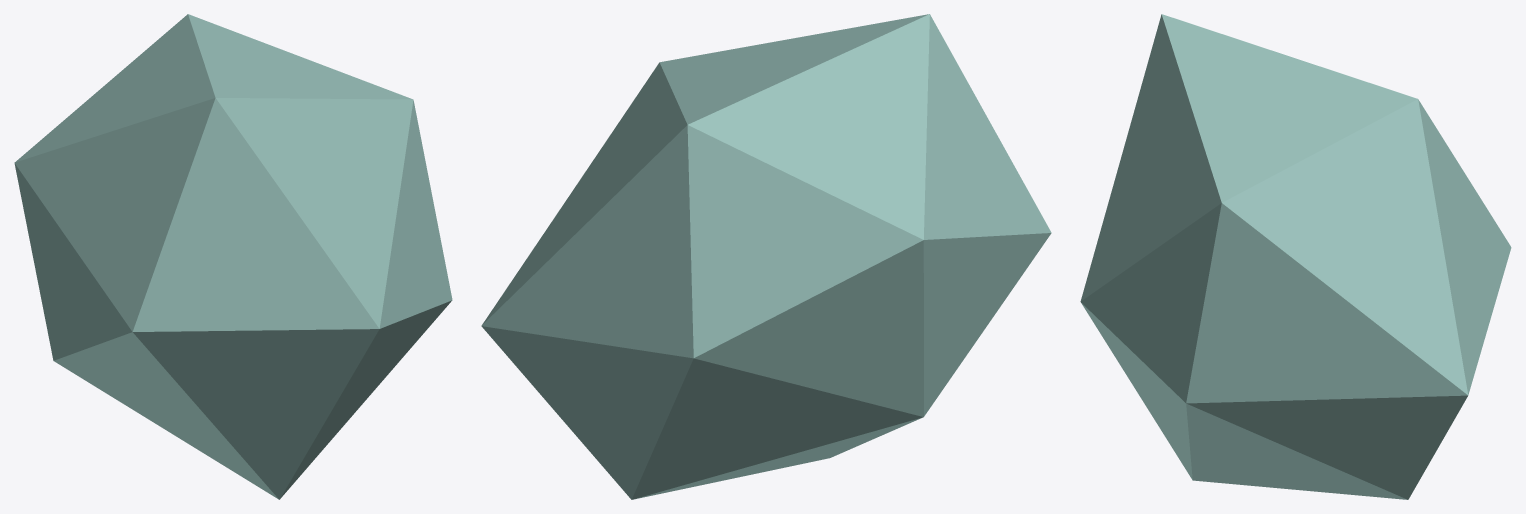
Rendered from 240519_rock_medium_02.glb.
The picture shows the model from 3 angles, left to right: view 1: azimuth 30°, elevation 25°; view 2: azimuth 150°, elevation 25°; view 3: azimuth 270°, elevation 25°; orthographic projection. The views are drawn at different scales.
Visible parts, largest first — view 1: Icosphere.003; view 2: Icosphere.003; view 3: Icosphere.003.
Boxes of the visible parts, x1,y1,x2,y2 form: Icosphere.003: (14,14,452,499); Icosphere.003: (481,14,1051,499); Icosphere.003: (1080,14,1511,499).
Size of the model in its own units: 3.15 by 3.49 by 3.18.
